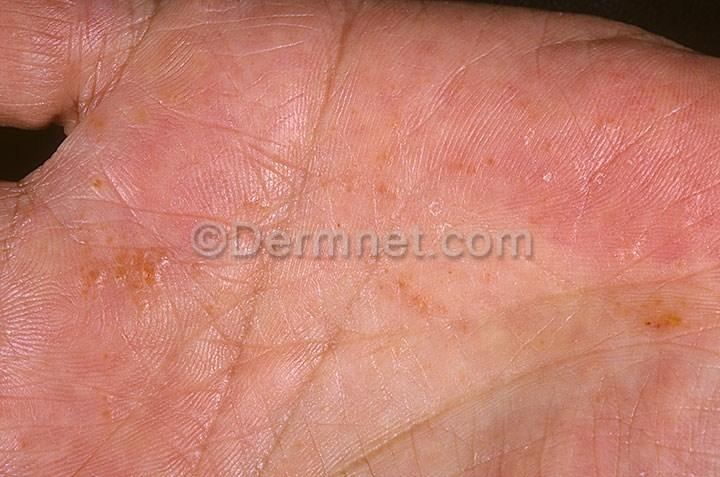Eczema: (294, 105, 427, 218), (353, 253, 492, 349), (71, 214, 186, 320), (577, 52, 670, 168), (445, 130, 556, 213), (65, 340, 153, 441), (149, 27, 256, 110), (626, 266, 699, 353), (80, 118, 140, 201), (489, 45, 544, 121)
